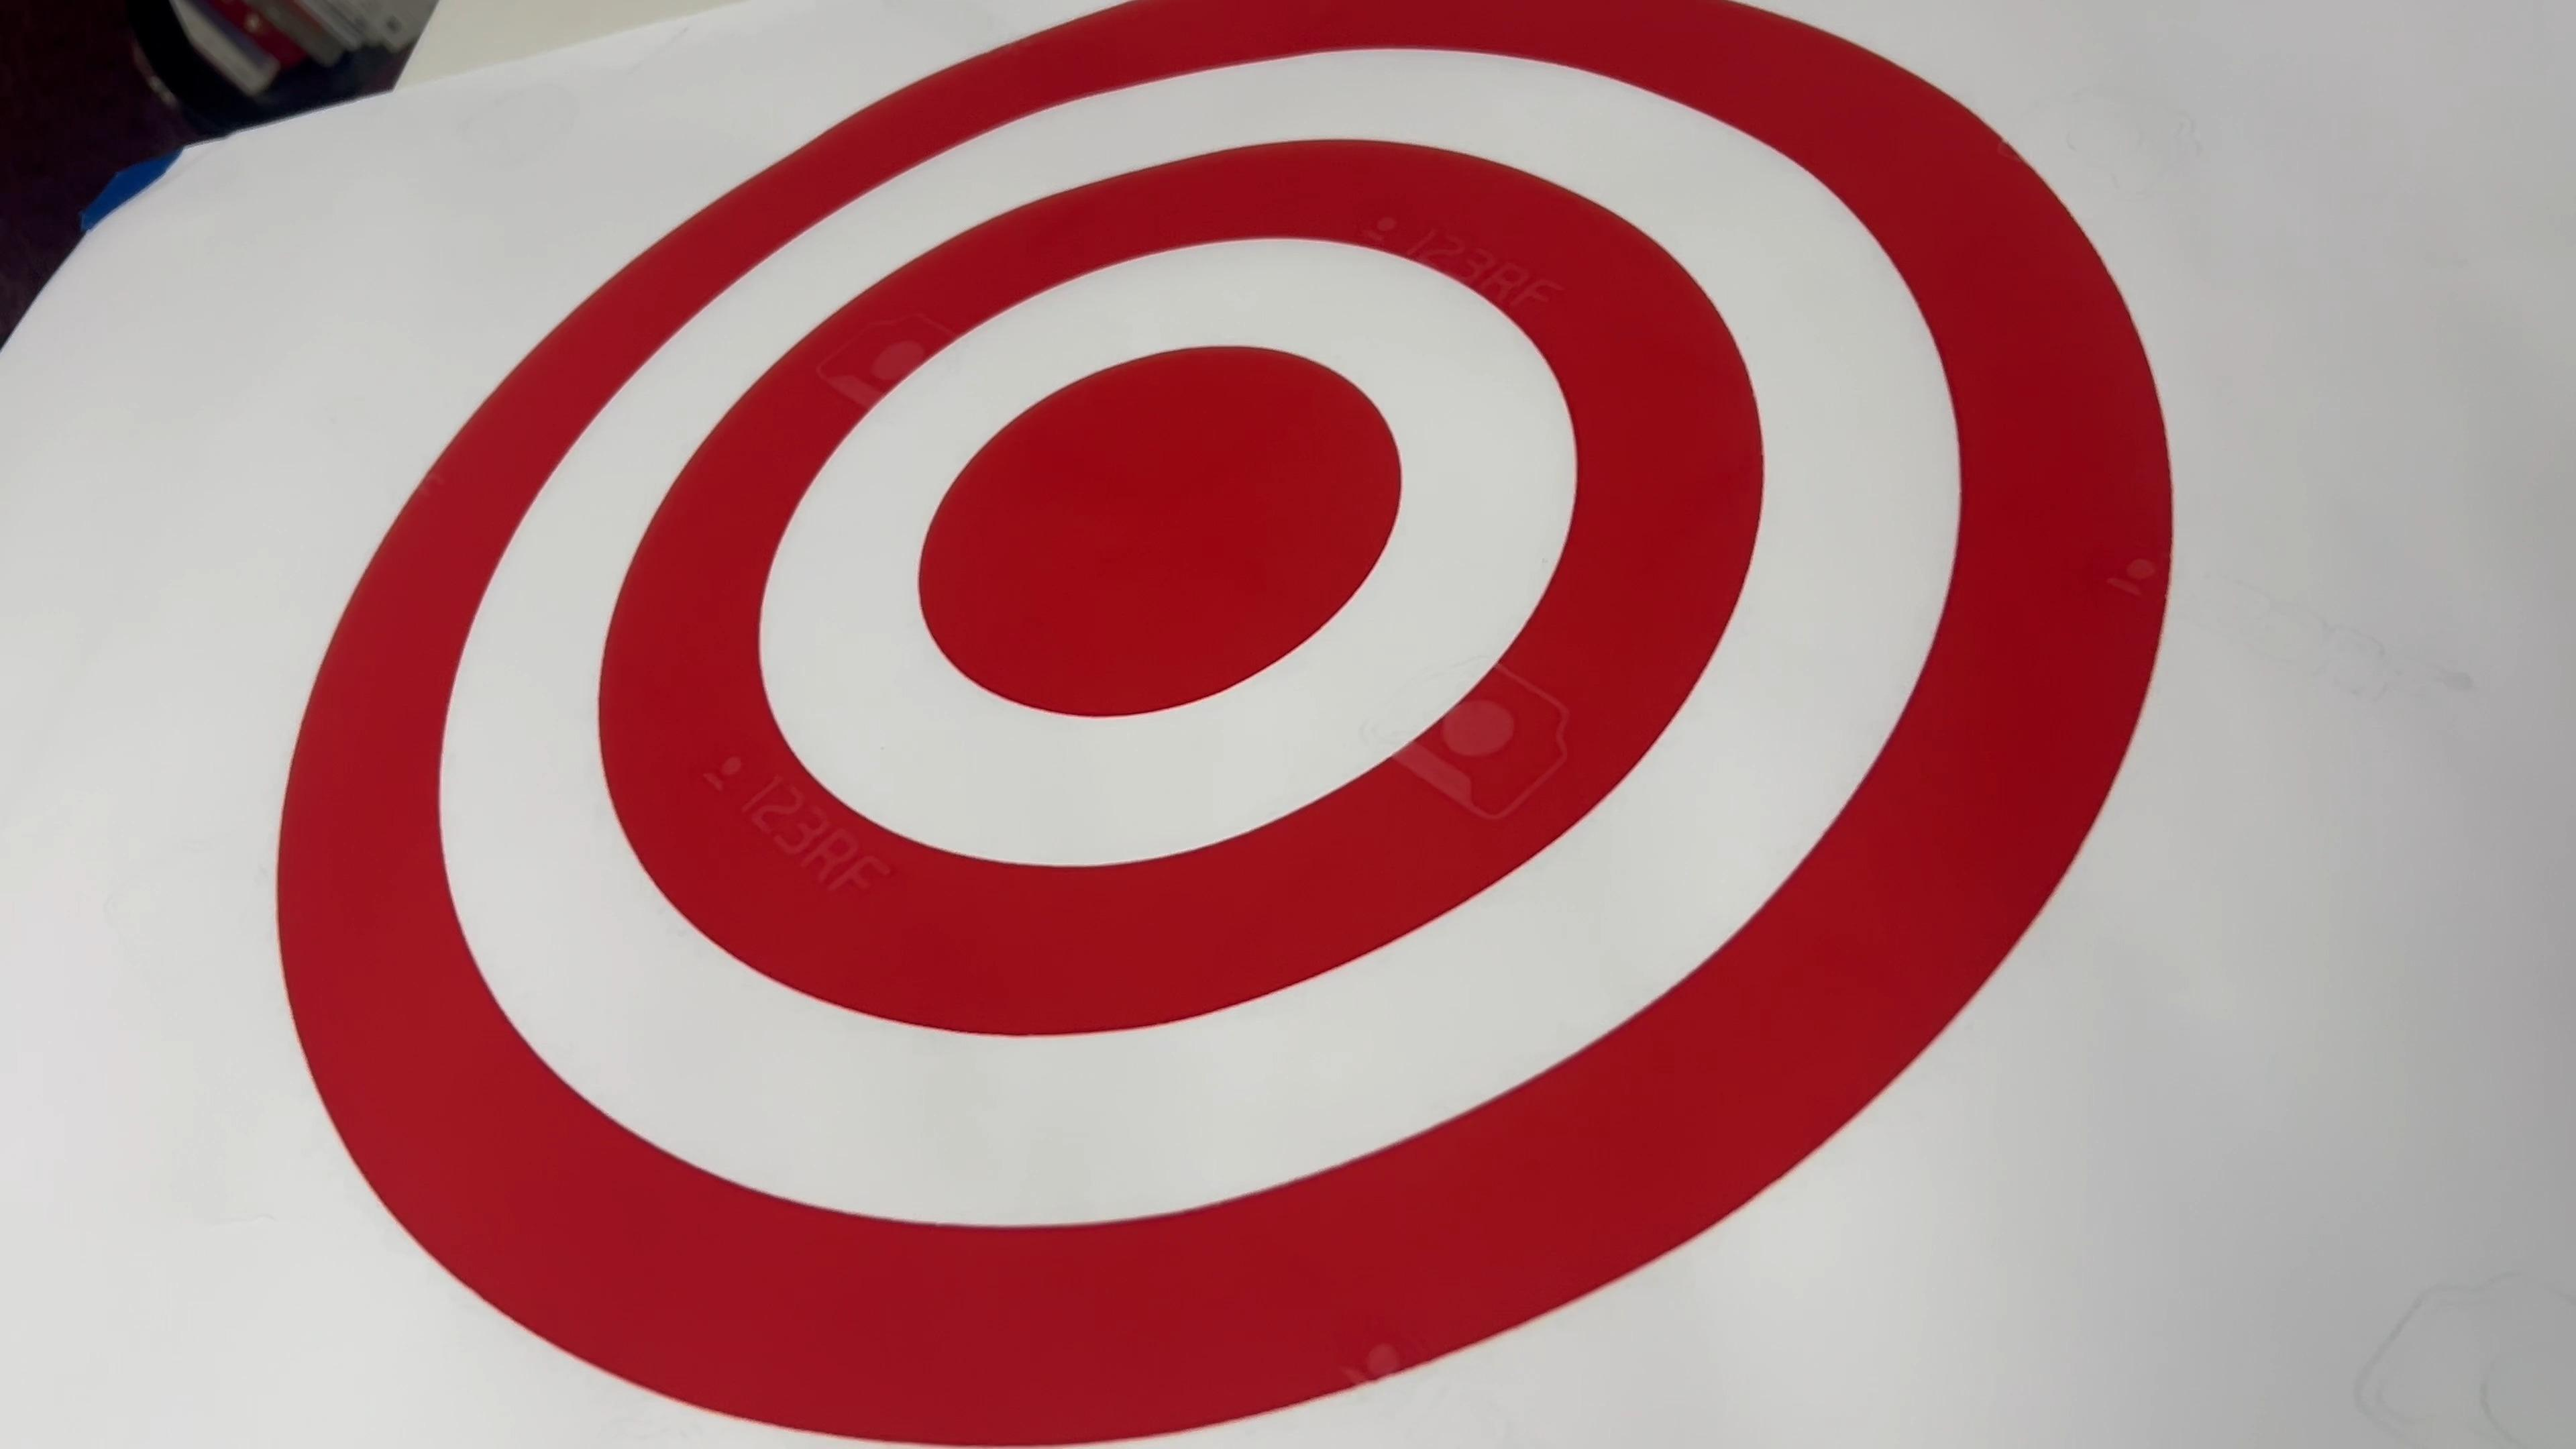target_red: (209, 0, 2199, 1449)
